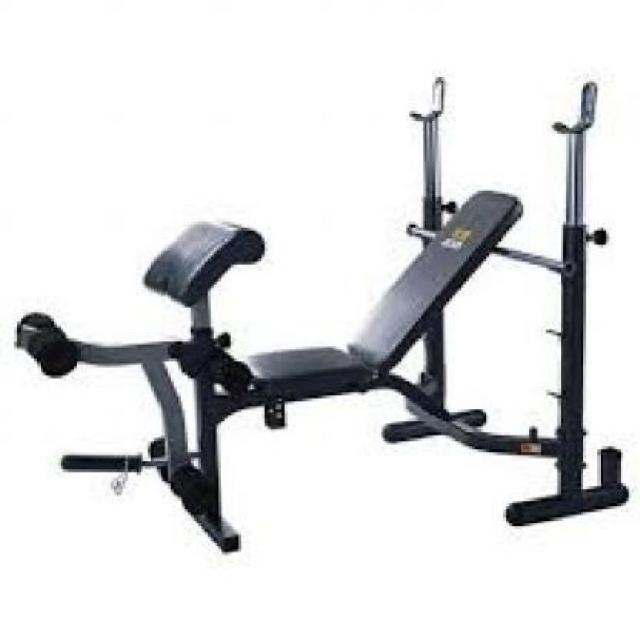arm curl machine: (11, 215, 369, 557)
